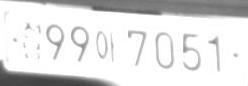0: (154, 31, 174, 68)
1: (206, 35, 225, 71)
5: (181, 33, 201, 71)
7: (126, 29, 146, 67)
9: (45, 23, 65, 60), (70, 25, 89, 62)
아: (94, 30, 117, 62)
전남_V: (21, 20, 43, 61)
